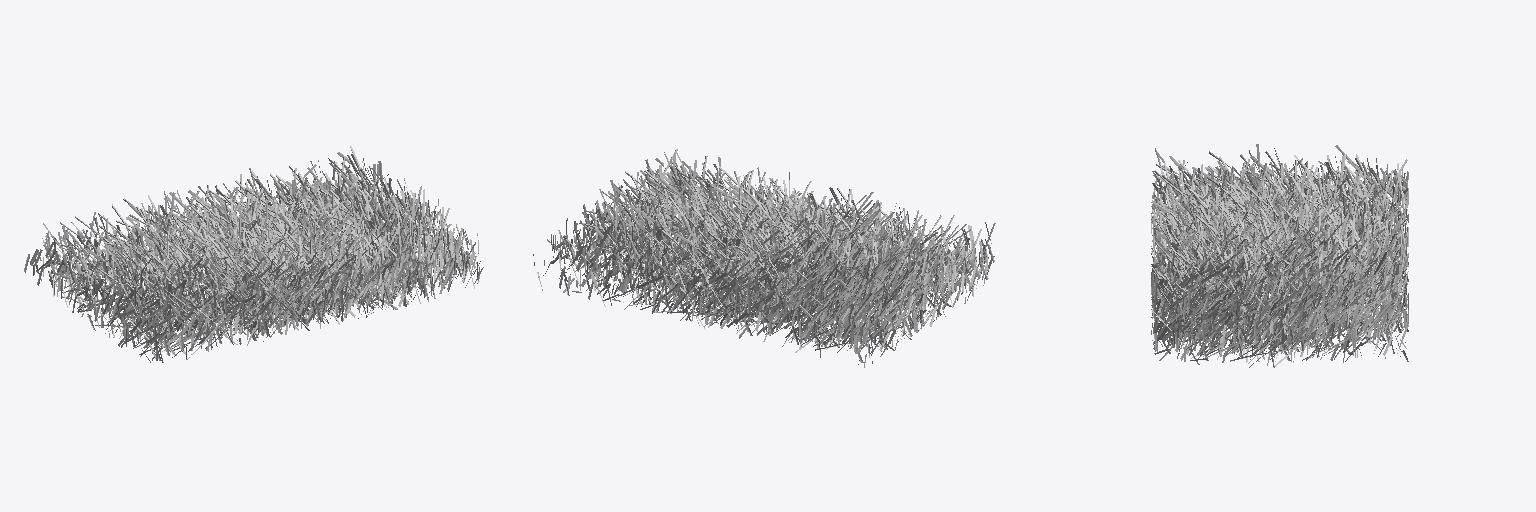
The model's file is grass.obj.
3 views of the same model, side by side, from view 1: azimuth 30°, elevation 25°; view 2: azimuth 150°, elevation 25°; view 3: azimuth 270°, elevation 25° (orthographic).
Parts seen in each view (by area): view 1: weed14.weed15.weed16.weed17.weed18.weed19.weed20.weed21_weed14; view 2: weed14.weed15.weed16.weed17.weed18.weed19.weed20.weed21_weed14; view 3: weed14.weed15.weed16.weed17.weed18.weed19.weed20.weed21_weed14.
Part boxes in pixels (x1,y1,x2,y2): weed14.weed15.weed16.weed17.weed18.weed19.weed20.weed21_weed14: (24,146,483,362); weed14.weed15.weed16.weed17.weed18.weed19.weed20.weed21_weed14: (533,149,995,367); weed14.weed15.weed16.weed17.weed18.weed19.weed20.weed21_weed14: (1151,144,1408,367).
Bounding box in the file's own units: 3.87 × 0.6011 × 2.51.